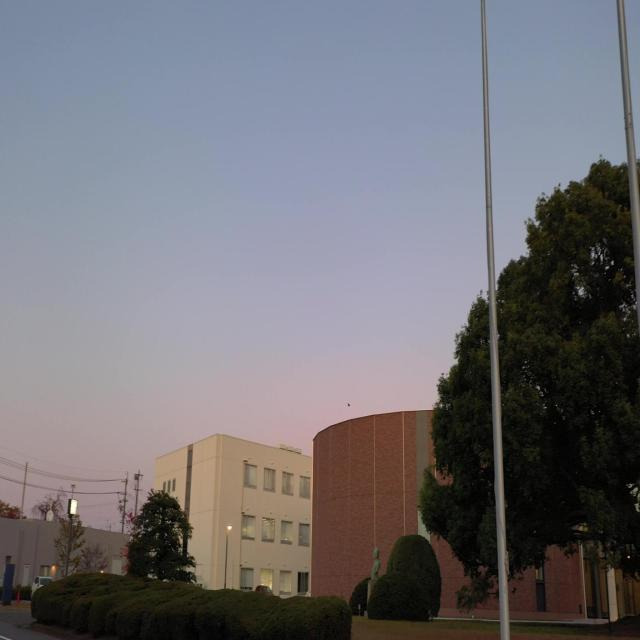Birds: (345, 400, 353, 408)
